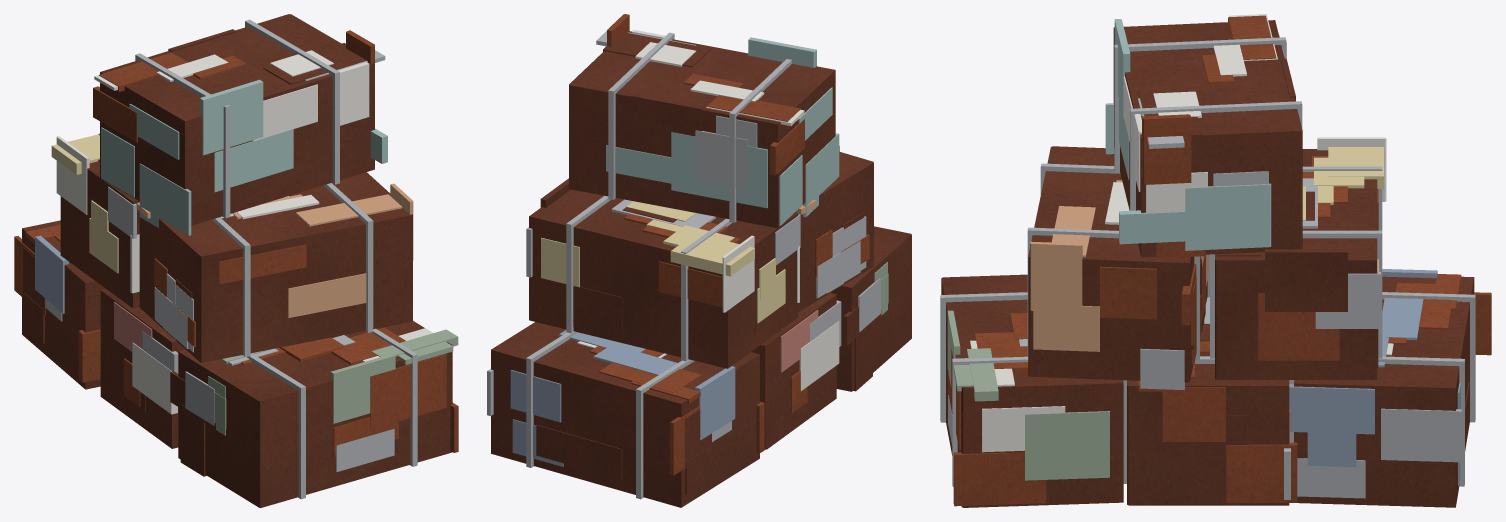
Rendered from bale_pile.glb.
The picture shows the model from 3 angles, left to right: view 1: azimuth 30°, elevation 25°; view 2: azimuth 150°, elevation 25°; view 3: azimuth 270°, elevation 25°; orthographic projection. The views are drawn at different scales.
Visible parts, largest first — view 1: bale_pile_rust_d, bale_pile_rust, bale_pile_steel, bale_pile_car_t, bale_pile_car_w, bale_pile_car_g, bale_pile_car_o, bale_pile_car_y, bale_pile_car_b, bale_pile_car_r; view 2: bale_pile_rust_d, bale_pile_steel, bale_pile_rust, bale_pile_car_t, bale_pile_car_b, bale_pile_car_y, bale_pile_car_w, bale_pile_car_r; view 3: bale_pile_rust_d, bale_pile_rust, bale_pile_steel, bale_pile_car_t, bale_pile_car_w, bale_pile_car_b, bale_pile_car_g, bale_pile_car_o, bale_pile_car_y.
Boxes of the visible parts, <box> form: bale_pile_rust_d: <box>22,14,452,507</box>; bale_pile_rust: <box>14,30,458,456</box>; bale_pile_steel: <box>45,19,417,499</box>; bale_pile_car_t: <box>101,79,387,235</box>; bale_pile_car_w: <box>56,50,432,414</box>; bale_pile_car_g: <box>208,329,458,435</box>; bale_pile_car_o: <box>136,183,413,318</box>; bale_pile_car_y: <box>51,134,118,273</box>; bale_pile_car_b: <box>35,235,68,313</box>; bale_pile_car_r: <box>114,302,152,351</box>; bale_pile_rust_d: <box>491,31,911,507</box>; bale_pile_steel: <box>487,31,880,499</box>; bale_pile_rust: <box>590,14,869,475</box>; bale_pile_car_t: <box>606,37,839,225</box>; bale_pile_car_b: <box>510,330,735,466</box>; bale_pile_car_y: <box>541,201,785,323</box>; bale_pile_car_w: <box>577,30,839,390</box>; bale_pile_car_r: <box>780,310,818,372</box>; bale_pile_rust_d: <box>941,20,1474,507</box>; bale_pile_rust: <box>948,15,1491,506</box>; bale_pile_steel: <box>940,34,1475,499</box>; bale_pile_car_t: <box>1105,19,1271,250</box>; bale_pile_car_w: <box>970,14,1393,452</box>; bale_pile_car_b: <box>1289,269,1460,485</box>; bale_pile_car_g: <box>947,310,1109,480</box>; bale_pile_car_o: <box>1030,180,1208,351</box>; bale_pile_car_y: <box>1302,147,1383,271</box>.
Bounding box in the file's own units: 1.83 × 2.56 × 3.26.
Materials: 10 (2 with a texture image).
